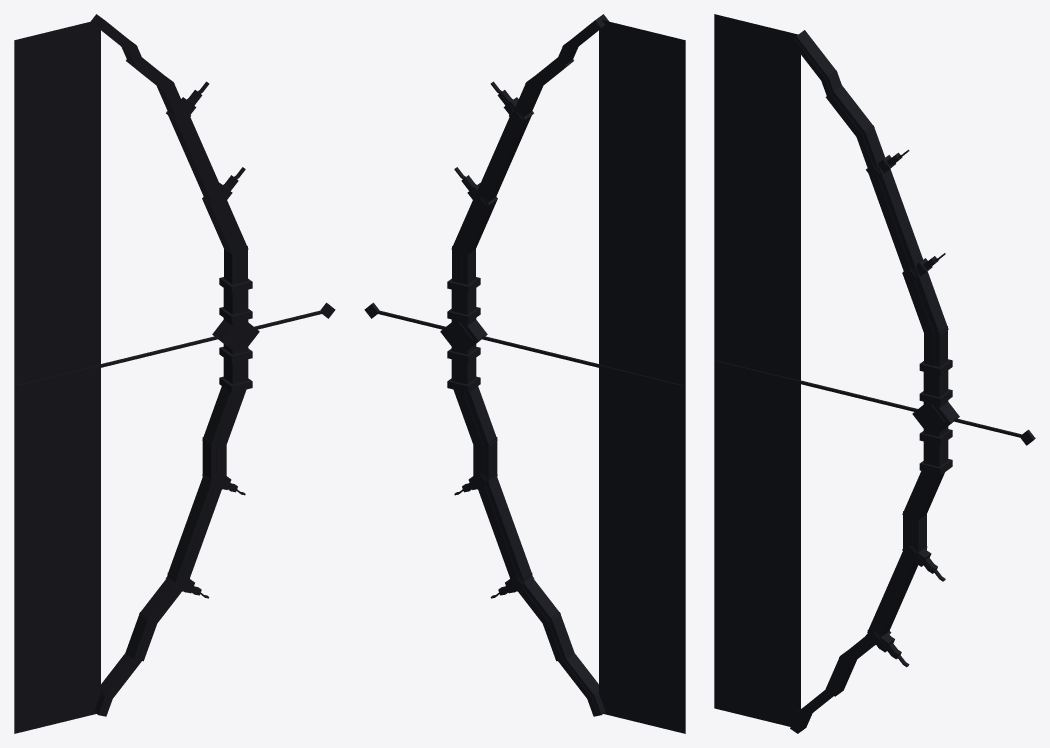
Rendered from requiem_shortbow_pulling_2_smooth.obj.
The picture shows the model from 3 angles, left to right: view 1: azimuth 30°, elevation 25°; view 2: azimuth 150°, elevation 25°; view 3: azimuth 330°, elevation 25°; orthographic projection.
Parts seen in each view (by area): view 1: requiem_shortbow_pulling_2; view 2: requiem_shortbow_pulling_2; view 3: requiem_shortbow_pulling_2.
Part boxes in pixels (x1,y1,x2,y2): requiem_shortbow_pulling_2: (14,14,335,733); requiem_shortbow_pulling_2: (364,14,685,733); requiem_shortbow_pulling_2: (714,14,1035,733).
Size of the model in its own units: 1.09 by 2.28 by 0.0717.
